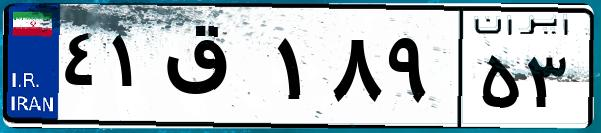1: (270, 28, 330, 110), (110, 28, 158, 98)
3: (525, 38, 570, 115)
4: (57, 26, 110, 100)
5: (475, 38, 525, 113)
8: (330, 28, 385, 110)
9: (385, 28, 445, 110)
ق: (158, 20, 270, 120)
